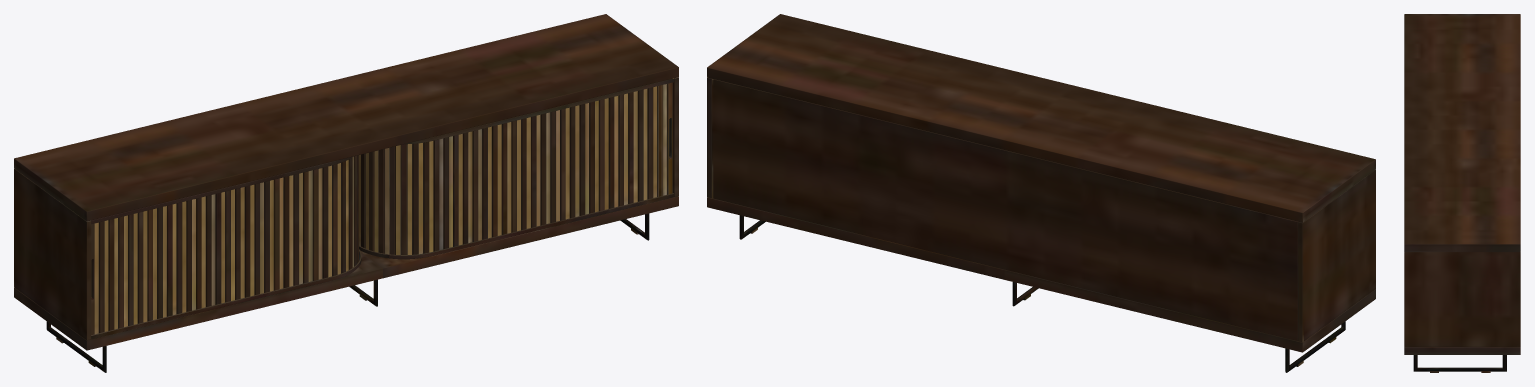
Rendered from sideboard-modern.lite.25fc5bc8.glb.
3 renders of one model, left to right at view 1: azimuth 30°, elevation 25°; view 2: azimuth 150°, elevation 25°; view 3: azimuth 270°, elevation 25°, orthographic. The views are drawn at different scales.
Visible parts, largest first — view 1: modern_wooden_cabinet_body, modern_wooden_cabinet_door_r, modern_wooden_cabinet_door_l; view 2: modern_wooden_cabinet_body; view 3: modern_wooden_cabinet_body.
Part boxes in pixels (x1=…): modern_wooden_cabinet_body: x1=14, y1=14, x2=678, y2=372; modern_wooden_cabinet_door_r: x1=359, y1=82, x2=672, y2=254; modern_wooden_cabinet_door_l: x1=91, y1=155, x2=358, y2=334; modern_wooden_cabinet_body: x1=707, y1=14, x2=1375, y2=372; modern_wooden_cabinet_body: x1=1404, y1=14, x2=1520, y2=372.
Bounding box in the file's own units: 2.44 × 0.6801 × 0.52.
Materials: 1 (1 with a texture image).
